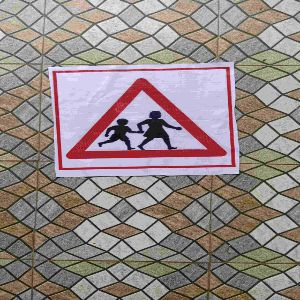schools: (55, 75, 234, 165)
